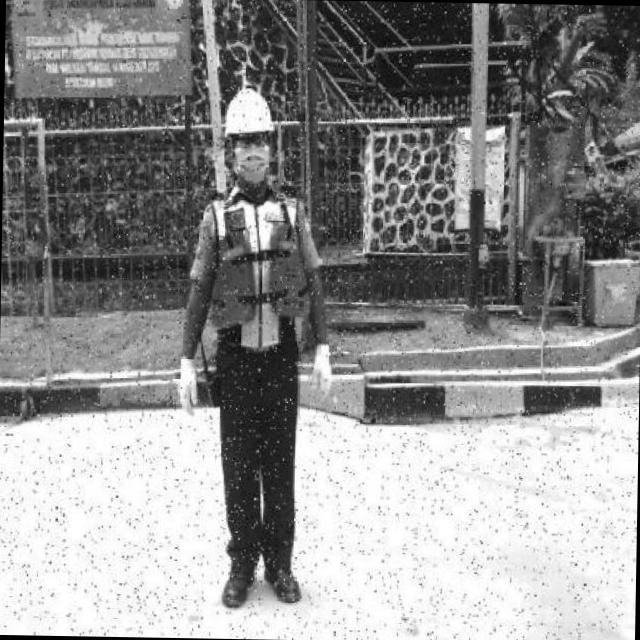hard_hat: (222, 85, 274, 134)
safety_vest: (204, 187, 318, 357)
work_boots: (259, 556, 303, 606), (219, 556, 257, 610)
